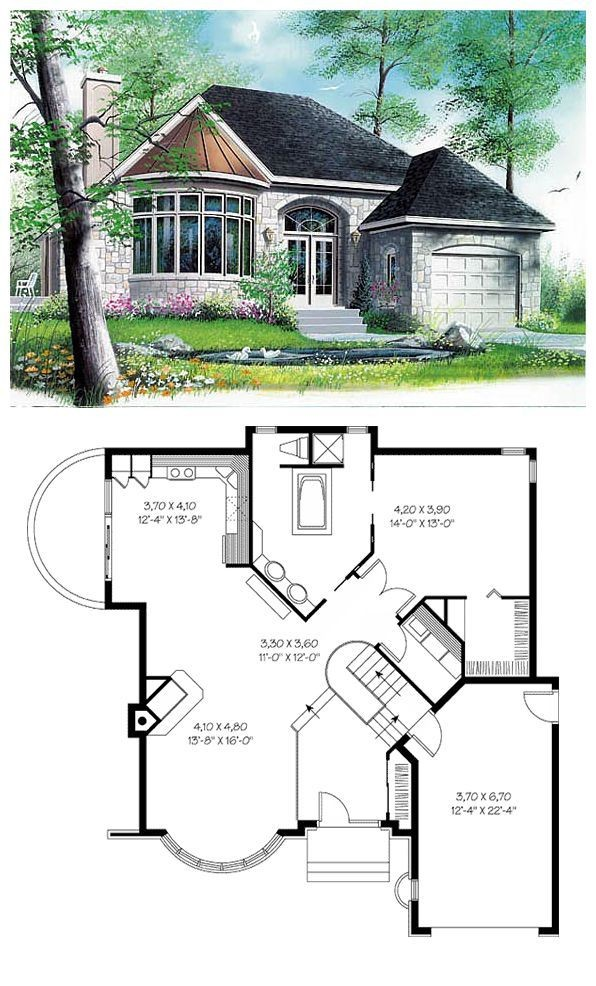door: (358, 552, 422, 616), (403, 713, 464, 761), (315, 785, 359, 841)
wall: (521, 485, 545, 677), (546, 711, 565, 932), (382, 441, 501, 474), (104, 443, 252, 467), (400, 764, 425, 882), (450, 670, 564, 691), (133, 601, 152, 704), (139, 743, 159, 837), (106, 588, 149, 613)
